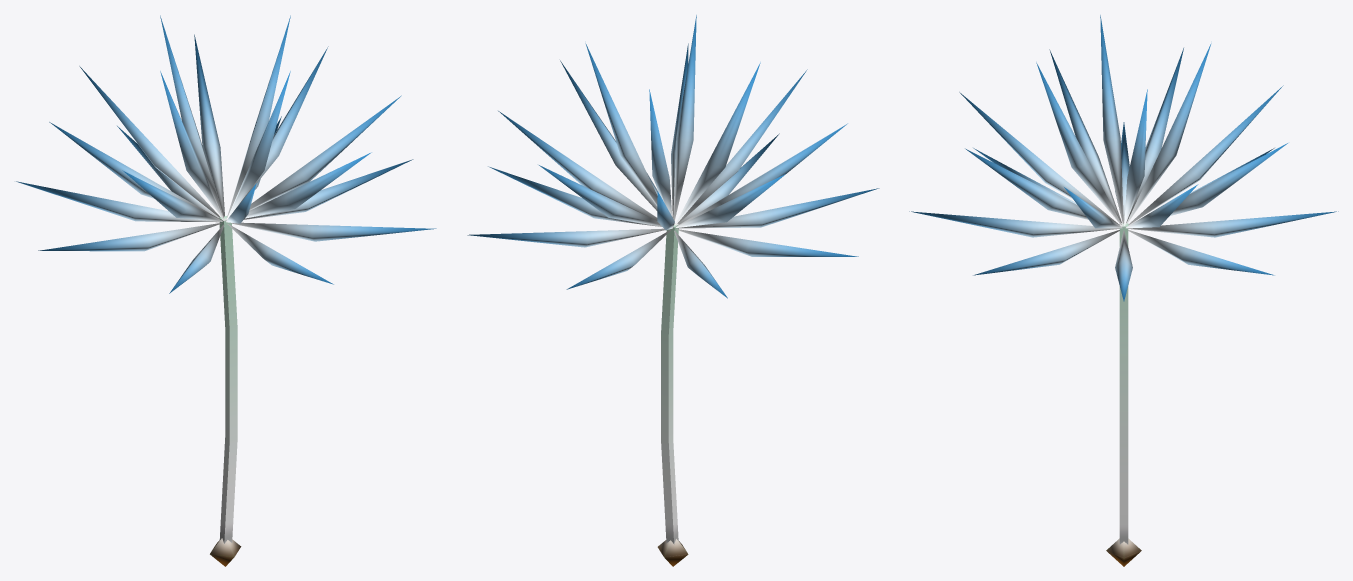
Rendered from dandelion1.FBX.
3 views of the same model, side by side, from view 1: azimuth 30°, elevation 25°; view 2: azimuth 150°, elevation 25°; view 3: azimuth 270°, elevation 25° (orthographic).
Visible parts, largest first — view 1: GeoSphere001; view 2: GeoSphere001; view 3: GeoSphere001.
Part boxes in pixels (x1=…): GeoSphere001: x1=16, y1=15, x2=436, y2=566; GeoSphere001: x1=467, y1=15, x2=879, y2=566; GeoSphere001: x1=909, y1=15, x2=1338, y2=566.
Bounding box in the file's own units: 47.82 × 63.29 × 47.82.
